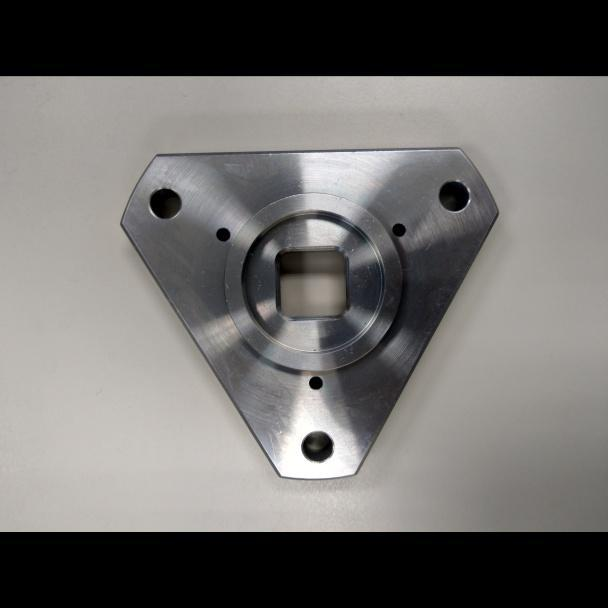hole: (143, 183, 184, 226), (297, 426, 337, 469), (431, 175, 472, 215), (213, 222, 235, 246), (390, 218, 407, 239), (307, 373, 325, 391)
